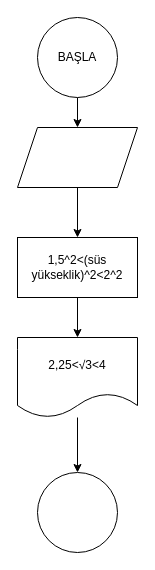
Image size: 155x570. Some labels were removed from this diagram. The shapes that lost their labels are listed below. From the top down, each one's box as (x1, y1, x2, y2) in pixels, then its label:
(16, 126, 138, 188): alt=1.5 metre üst=0.5 metre
(36, 472, 118, 552): DUR
